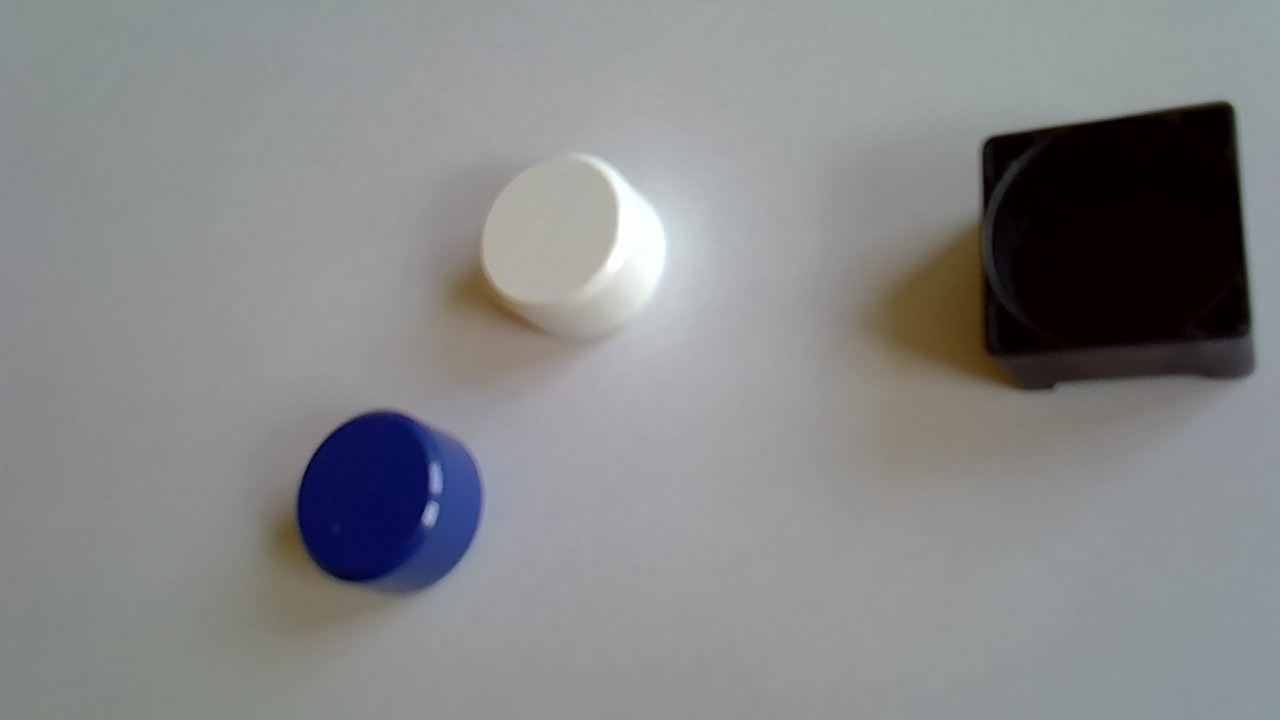Behaelter: (980, 100, 1255, 395)
WerkStueck: (296, 407, 486, 599), (479, 151, 669, 342)
